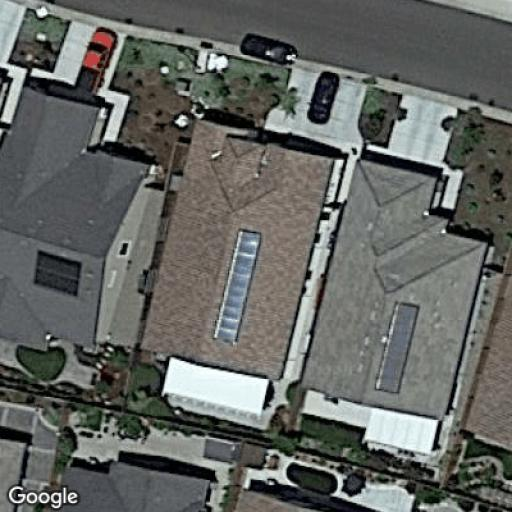solar-panel: (213, 227, 263, 345), (375, 300, 421, 396), (32, 248, 83, 298)
